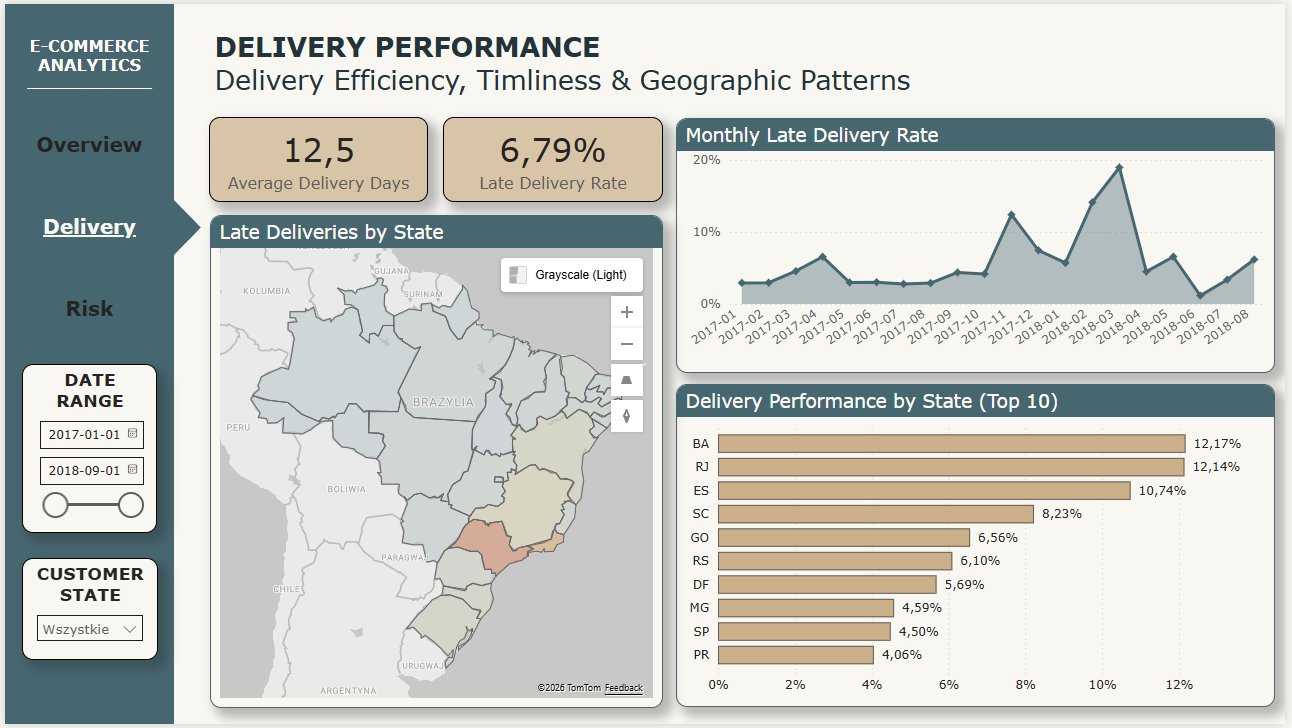

What the dashboard file says about the page in this screenshot:
{"tool":"powerbi","page":{"name":"Delivery","canvas":[1280,720],"ordinal":1},"visuals":[{"type":"group","id":"g1","title":"Grupa 2","box":[0,0,195.4,720.7],"z":0},{"type":"shape","box":[127.4,187.8,68.2,70.8],"z":0,"group":"g1"},{"type":"shape","box":[0,0,168.5,720.4],"z":1000,"group":"g1"},{"type":"textbox","box":[204.5,20.6,741,83.6],"z":1000},{"type":"group","id":"g2","title":"Grupa 1","box":[16.7,27,136.4,70.8],"z":2000,"group":"g1"},{"type":"textbox","box":[16.7,27,136.4,69.5],"z":2000,"group":"g2"},{"type":"card","fields":{"Values":["_Measures.Average Delivery Days"]},"box":[203.9,113.3,219.5,85],"z":2000},{"type":"textbox","box":[16.7,61.7,136.4,36],"z":3000,"group":"g2"},{"type":"pageNavigator","box":[16.7,104.2,136.4,238],"z":3000,"group":"g1"},{"type":"card","fields":{"Values":["_Measures.Late Delivery Rate"]},"box":[438.2,113.4,219.7,85],"z":3000},{"type":"lineChart","title":"Monthly Late Delivery Rate","fields":{"Category":["DimDate.Year-Month"],"Y":["_Measures.Late Delivery Rate"]},"box":[671.1,114.4,598.9,254.4],"z":4000},{"type":"slicer","title":"DATE RANGE","fields":{"Values":["DimDate.Date"]},"box":[16.7,360.2,135.1,168.5],"z":4000,"group":"g1"},{"type":"barChart","title":"Delivery Performance by State (Top 10)","fields":{"Category":["Orders.customer_state"],"Y":["_Measures.Late Delivery Rate"]},"box":[671.1,380,598.9,323.3],"z":5000},{"type":"slicer","title":"CUSTOMER STATE","fields":{"Values":["Orders.customer_state"]},"box":[16.7,554.5,136.4,101.6],"z":5000,"group":"g1"},{"type":"azureMap","title":"Late Deliveries by State","fields":{"Category":["Orders.customer_state"]},"box":[205,211.2,452.5,492.5],"z":6000}]}

Visuals, with their boxes in screenshot pixels (x1, y1, x2, y2), scaled from the page's 1280x720 canvas onto the 1292x728 screenshot:
"Grupa 2" group: box=[0, 0, 197, 727]
shape: box=[129, 190, 197, 261]
shape: box=[0, 0, 170, 727]
textbox: box=[206, 21, 954, 105]
"Grupa 1" group: box=[17, 27, 155, 99]
textbox: box=[17, 27, 155, 98]
card - _Measures.Average Delivery Days: box=[206, 115, 427, 201]
textbox: box=[17, 62, 155, 99]
pageNavigator: box=[17, 105, 155, 346]
card - _Measures.Late Delivery Rate: box=[442, 115, 664, 201]
"Monthly Late Delivery Rate" lineChart: box=[677, 116, 1282, 373]
"DATE RANGE" slicer: box=[17, 364, 153, 535]
"Delivery Performance by State (Top 10)" barChart: box=[677, 384, 1282, 711]
"CUSTOMER STATE" slicer: box=[17, 561, 155, 663]
"Late Deliveries by State" azureMap: box=[207, 214, 664, 712]
